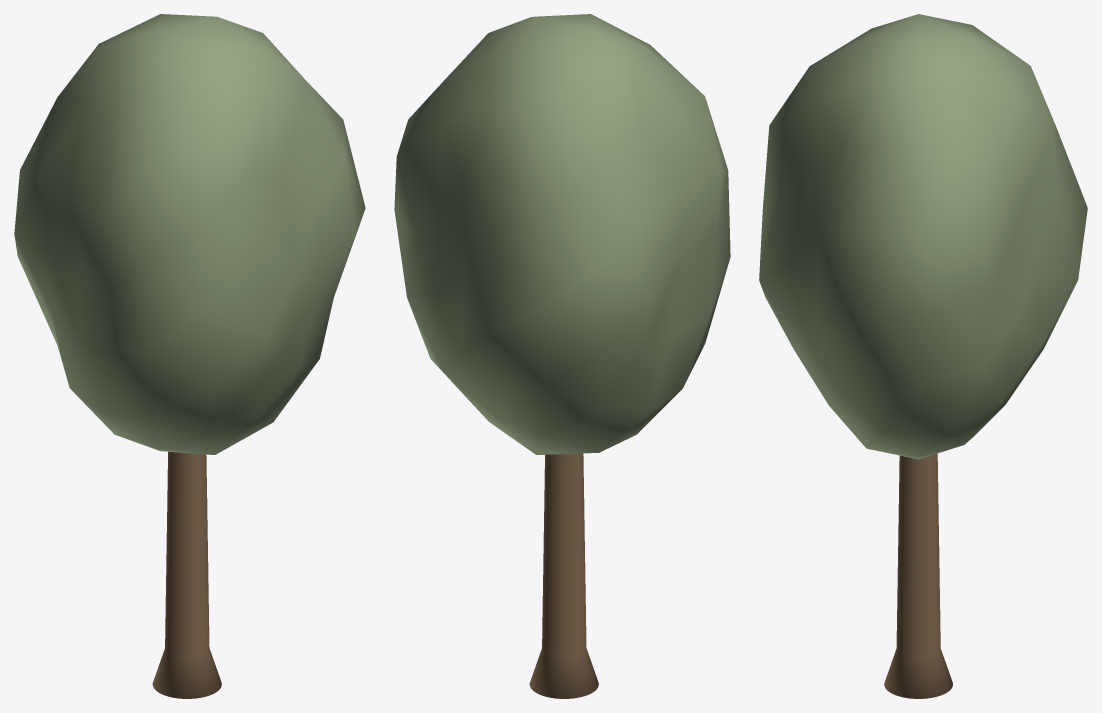
The model's file is tree.glb.
3 renders of one model, left to right at view 1: azimuth 30°, elevation 25°; view 2: azimuth 150°, elevation 25°; view 3: azimuth 270°, elevation 25°, orthographic.
Visible parts, largest first — view 1: oak-continuous-crown, oak-rooted-trunk; view 2: oak-continuous-crown, oak-rooted-trunk; view 3: oak-continuous-crown, oak-rooted-trunk.
Boxes of the visible parts, x1,y1,x2,y2 form: oak-continuous-crown: (14, 14, 365, 454); oak-rooted-trunk: (152, 451, 221, 698); oak-continuous-crown: (394, 14, 730, 455); oak-rooted-trunk: (529, 453, 598, 698); oak-continuous-crown: (759, 14, 1087, 459); oak-rooted-trunk: (884, 453, 952, 698).
Bounding box in the file's own units: 1.35 × 2.95 × 1.34.
